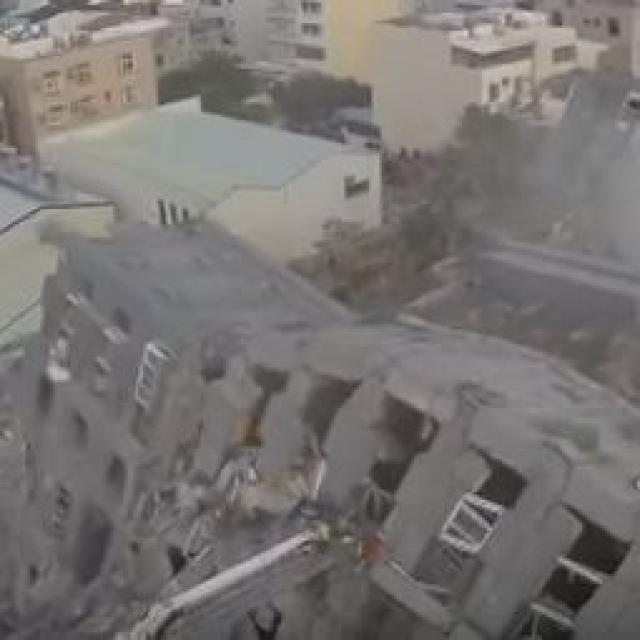collapsed_building: (58, 240, 638, 638)
